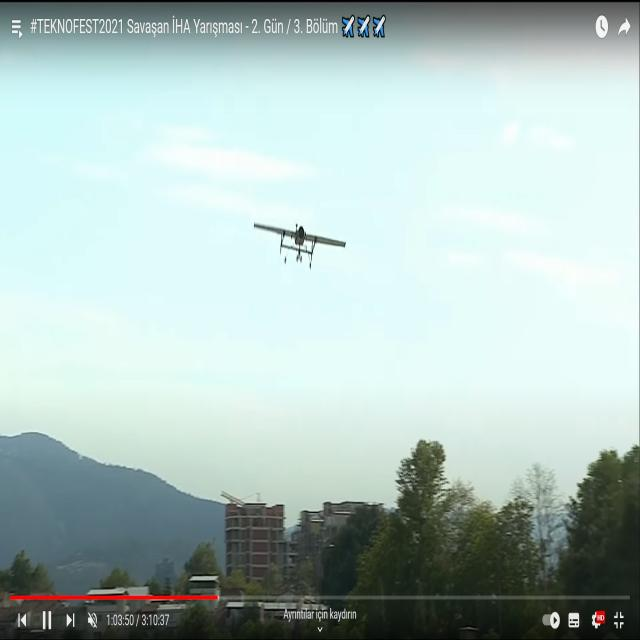iha: (283, 217, 314, 267)
